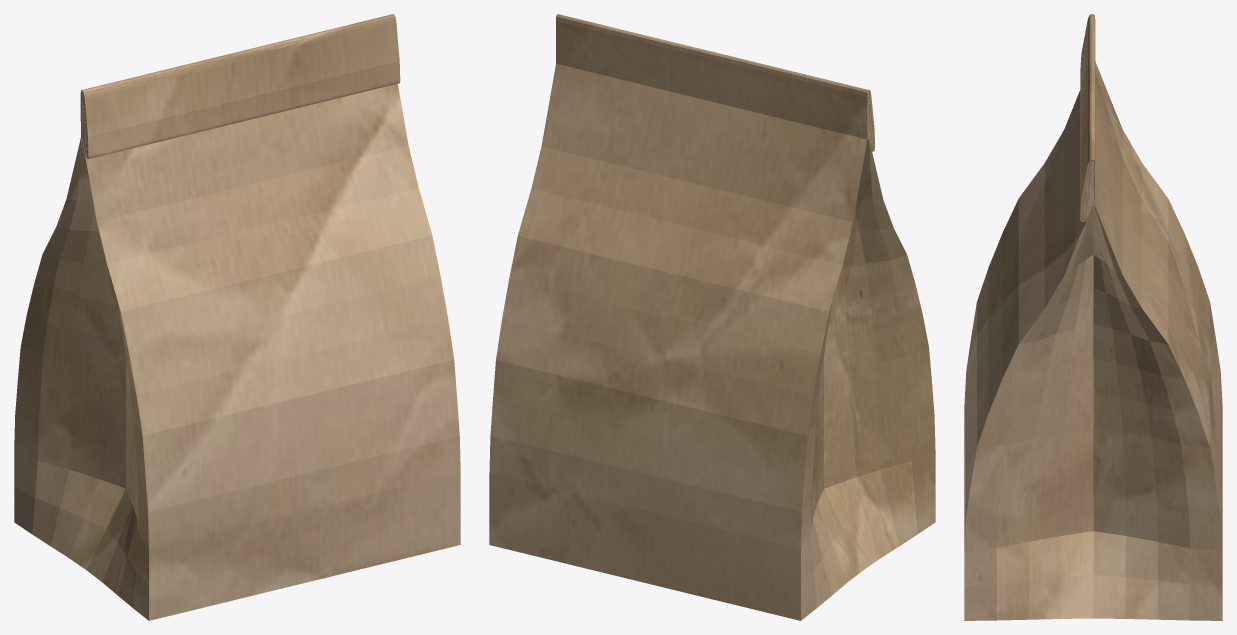
Rendered from ing_yeast.glb.
The picture shows the model from 3 angles, left to right: view 1: azimuth 30°, elevation 25°; view 2: azimuth 150°, elevation 25°; view 3: azimuth 270°, elevation 25°; orthographic projection. The views are drawn at different scales.
Visible parts, largest first — view 1: Cube_0; view 2: Cube_0; view 3: Cube_0.
Boxes of the visible parts, <box> form: Cube_0: <box>14,14,460,620</box>; Cube_0: <box>489,14,935,620</box>; Cube_0: <box>964,14,1222,620</box>.
Bounding box in the file's own units: 2.67 × 3.94 × 2.
1 material, 1 textured.
